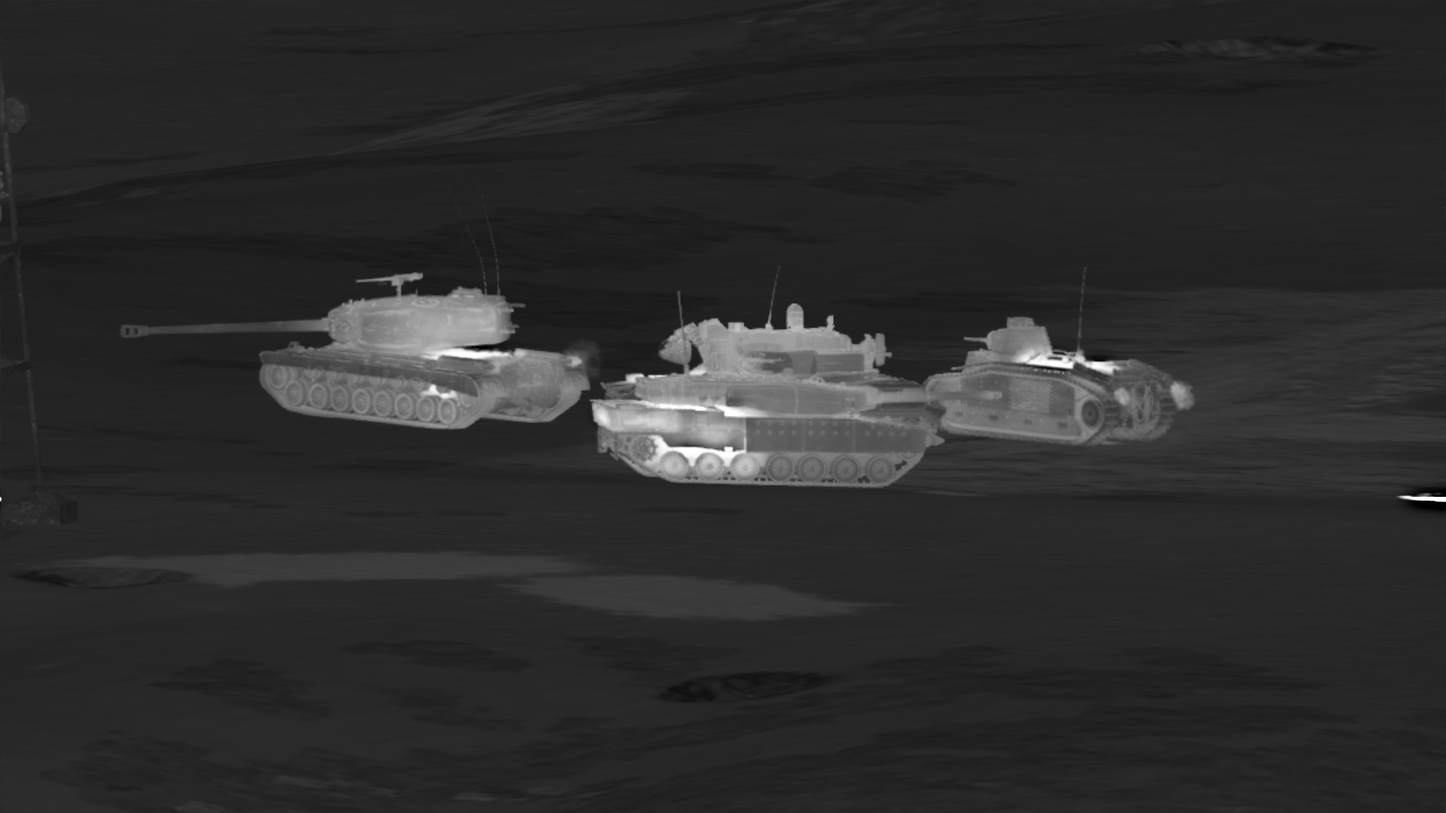leopard2: (583, 366, 1005, 485)
